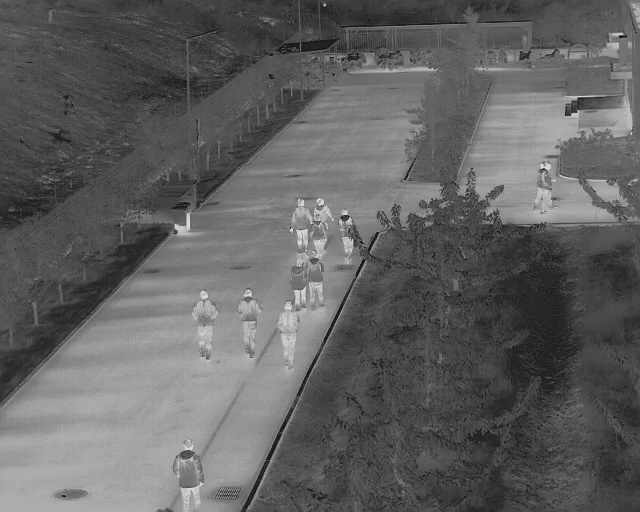person: (171, 437, 206, 512), (192, 289, 218, 362), (236, 287, 262, 359), (276, 300, 301, 373), (288, 197, 313, 253), (305, 250, 326, 310), (337, 208, 354, 266), (289, 256, 307, 308), (310, 213, 328, 260), (538, 161, 553, 215)
